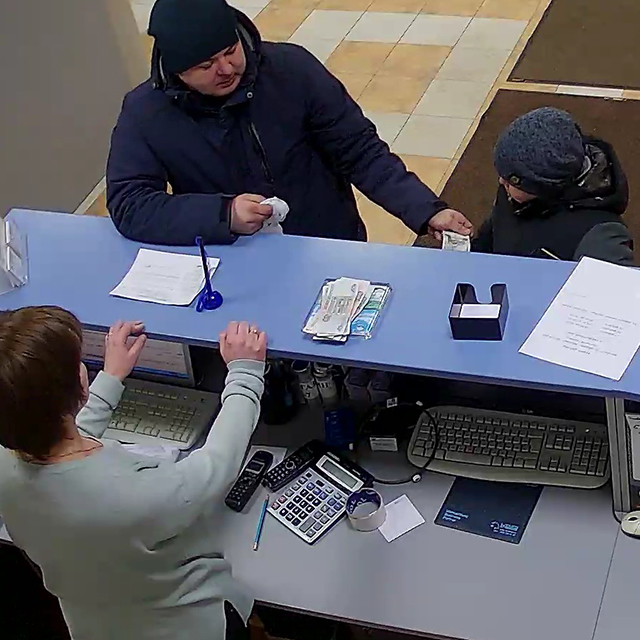banknotes: (306, 277, 364, 343)
